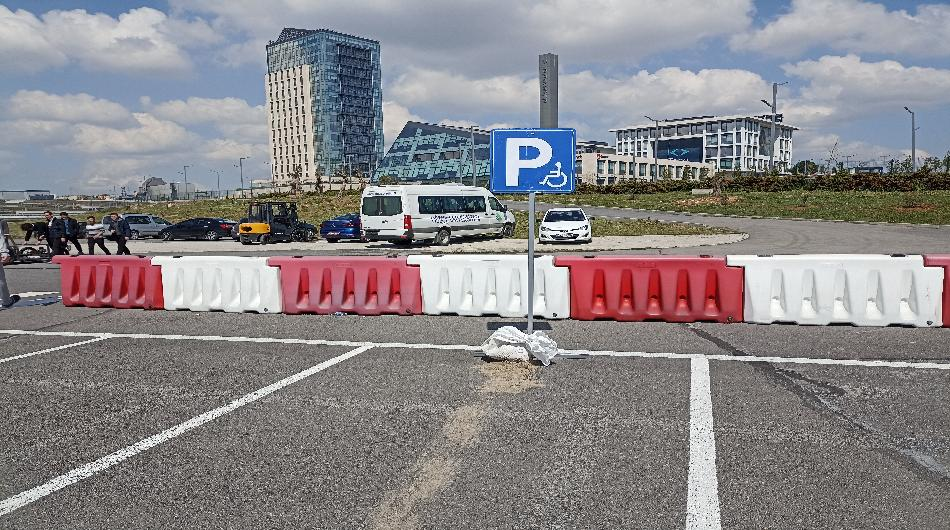engelli_park: (491, 124, 577, 194)
